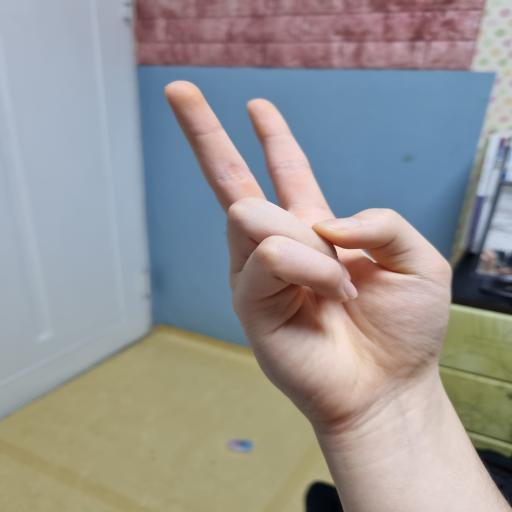Scissors: (166, 80, 454, 430)
